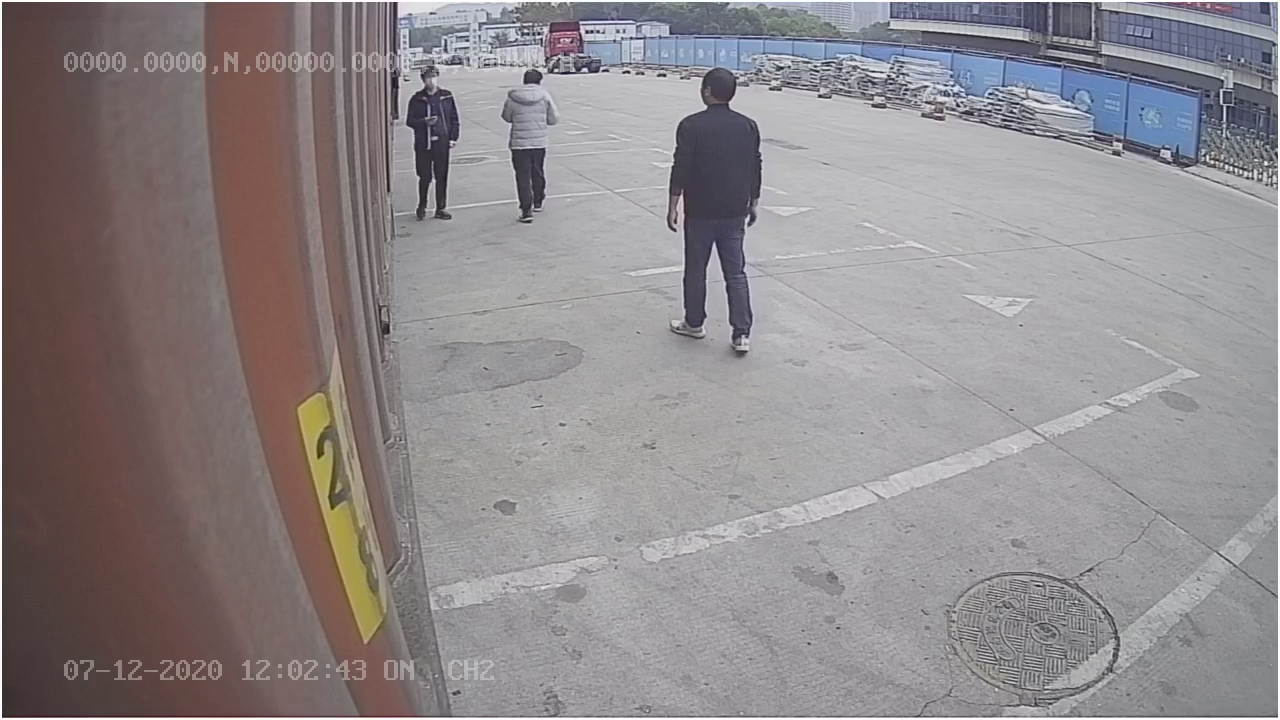person: (663, 65, 768, 355)
